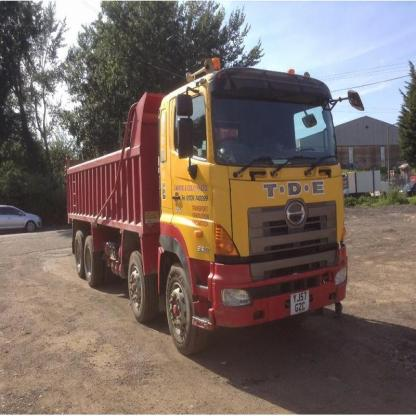dump_truck: (53, 53, 358, 357)
